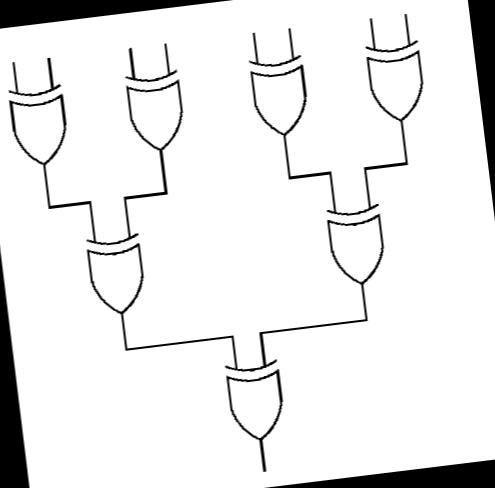xor: (116, 62, 194, 160), (358, 31, 434, 130), (2, 76, 78, 172), (79, 228, 154, 324), (318, 198, 393, 294), (218, 353, 293, 449), (242, 48, 316, 142)
